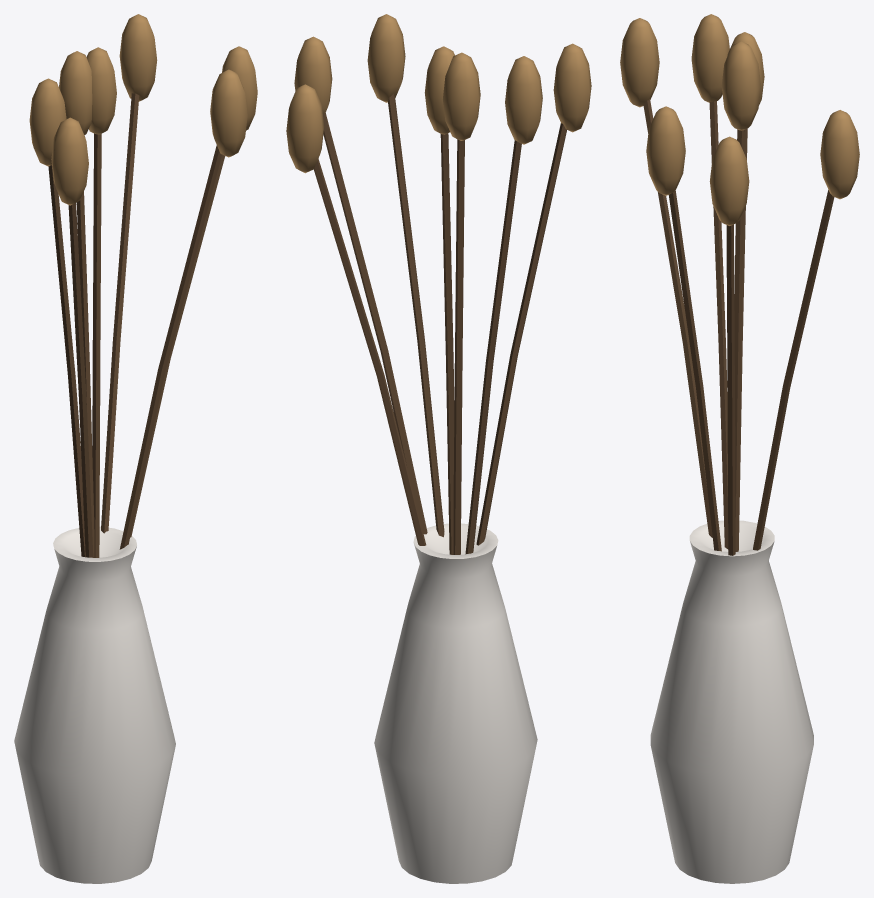
Rendered from dried_flowers.fbx.
3 views of the same model, side by side, from view 1: azimuth 30°, elevation 25°; view 2: azimuth 150°, elevation 25°; view 3: azimuth 270°, elevation 25° (orthographic).
Visible parts, largest first — view 1: dried_flowers; view 2: dried_flowers; view 3: dried_flowers.
Boxes of the visible parts, box(x1,y1,x2,y2) form: dried_flowers: box(14, 14, 257, 883); dried_flowers: box(286, 14, 591, 883); dried_flowers: box(620, 14, 859, 883).
Size of the model in its own units: 0.1756 by 0.5499 by 0.1454.
